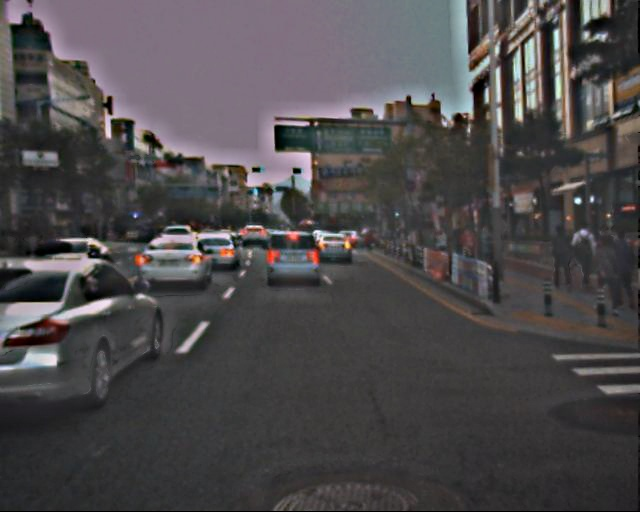person: (432, 222, 494, 261), (588, 238, 619, 314), (606, 230, 637, 306), (544, 225, 571, 291), (568, 220, 594, 283)
